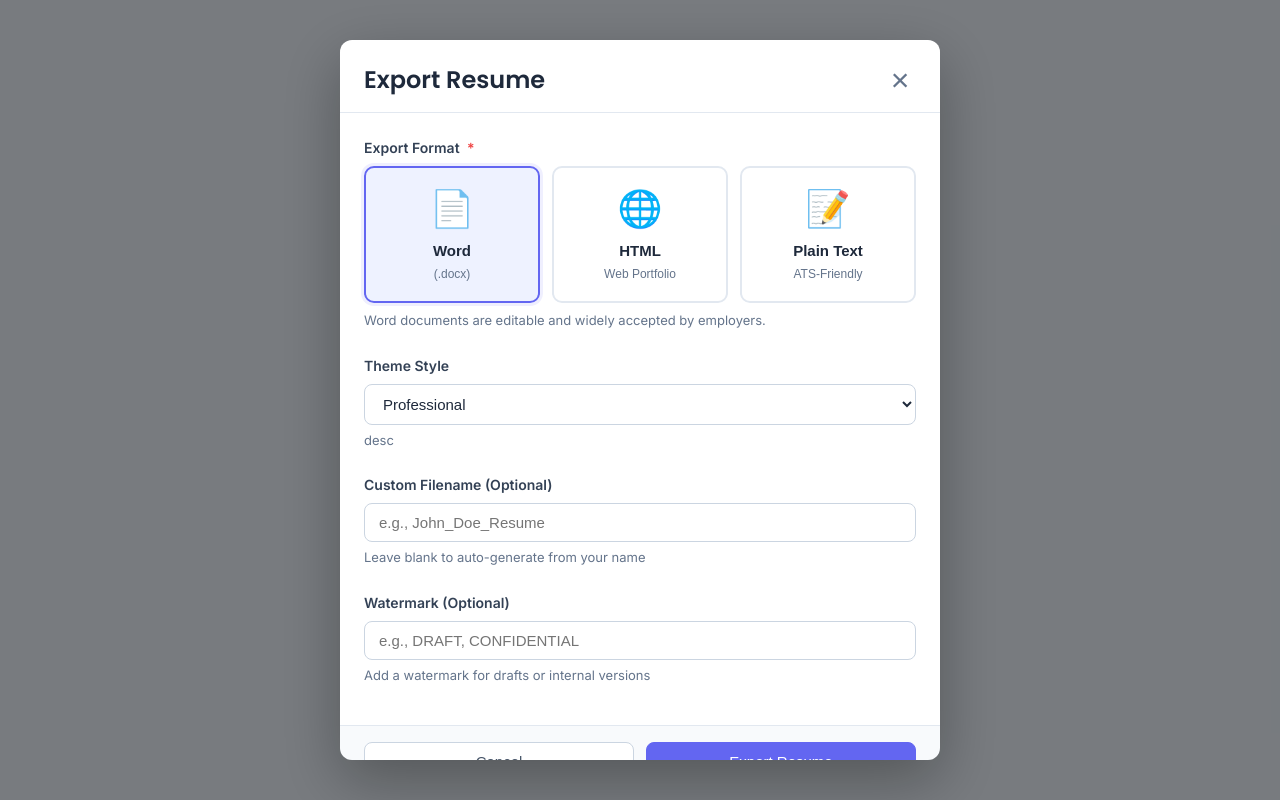
Scenario: format selection updates hints and hides theme/watermark for plain text
Expected: the text "Word documents are editable" is shown, [364,312,766,328]
Click the text "Plain Text".
click(828, 250)  # box [793,242,863,259]
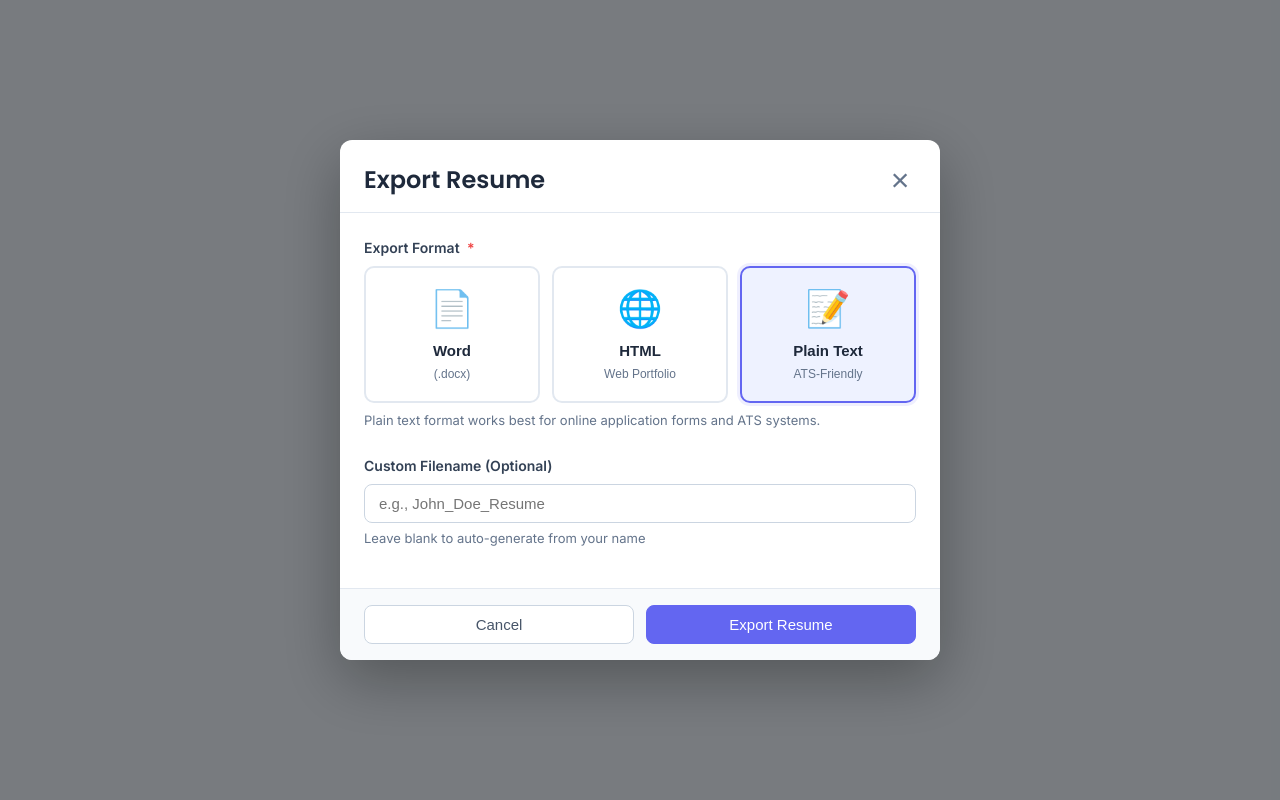
Expected: the text "Plain text format works best" is shown, [364,412,820,428]
Expected: the label labelled "Theme Style" is gone
Expected: the label labelled "Watermark" is gone
